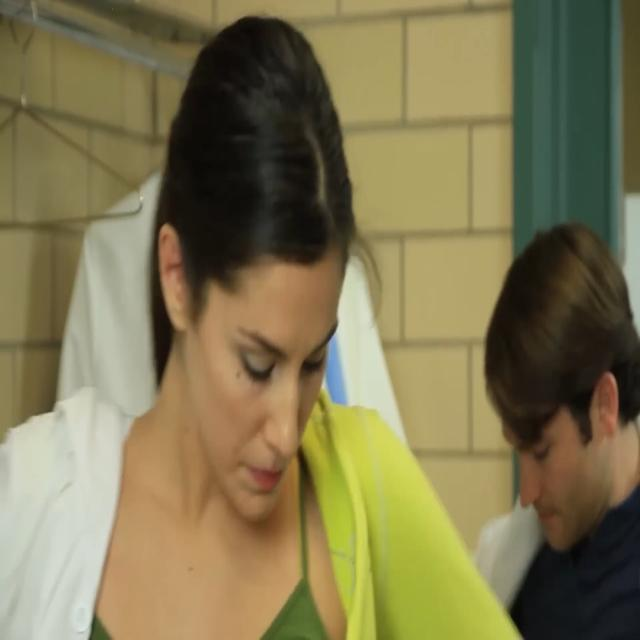labcoat: (51, 140, 417, 475), (0, 381, 149, 640)
